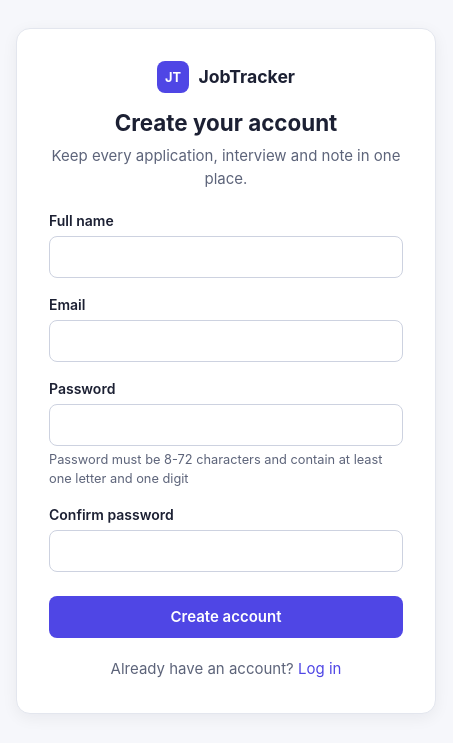
Test: Registration page › rejects mismatching passwords
In the field labelled "Full name": (226, 257) [49,236,403,278], type "Asha Reddy"
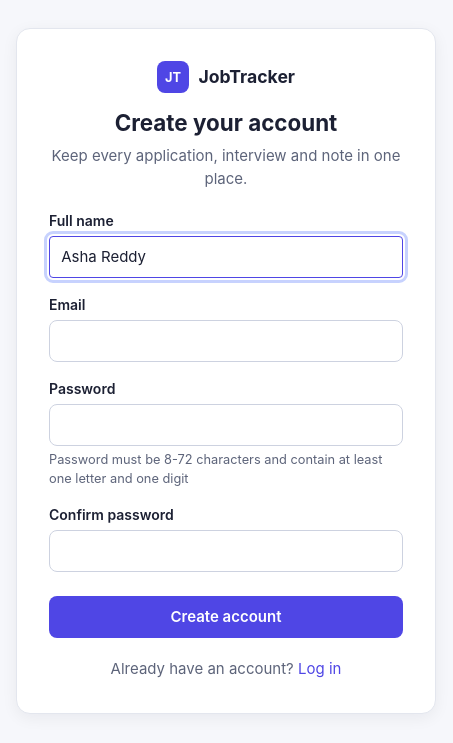
In the field labelled "Email": (226, 341) [49,320,403,362], type "asha@example.com"
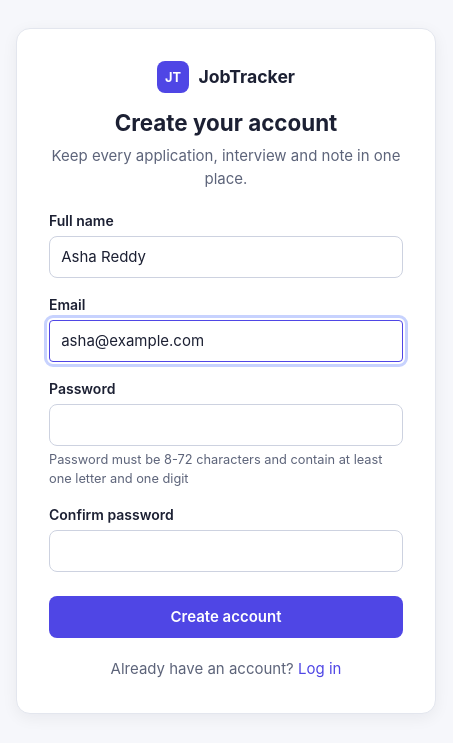
In the password field labelled "Password": (226, 425) [49,404,403,446], type "Secret123"
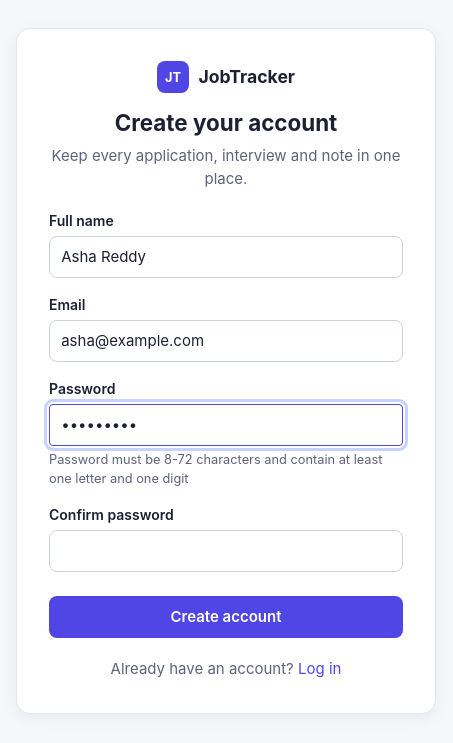
In the password field labelled "Confirm password": (226, 551) [49,530,403,572], type "Different123"
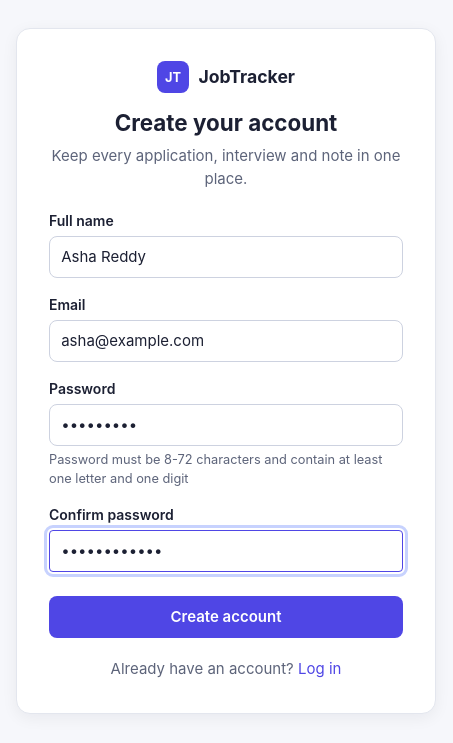
Click the button "Create account": click(226, 617) [49,596,403,638]
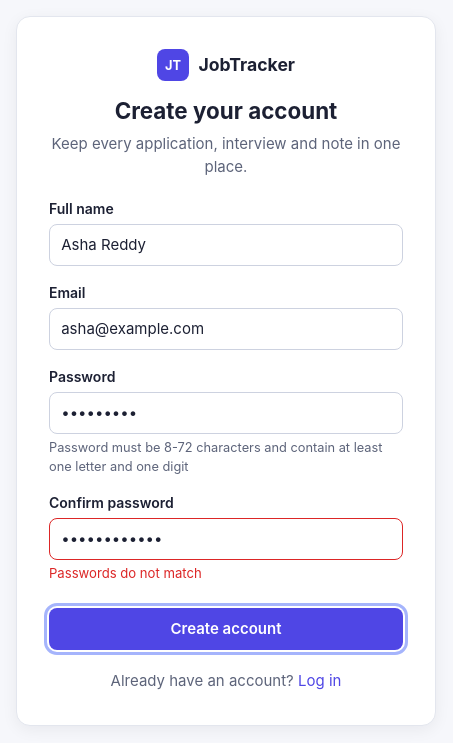
expect the text "Passwords do not match" is shown: met, box [49,565,202,581]
